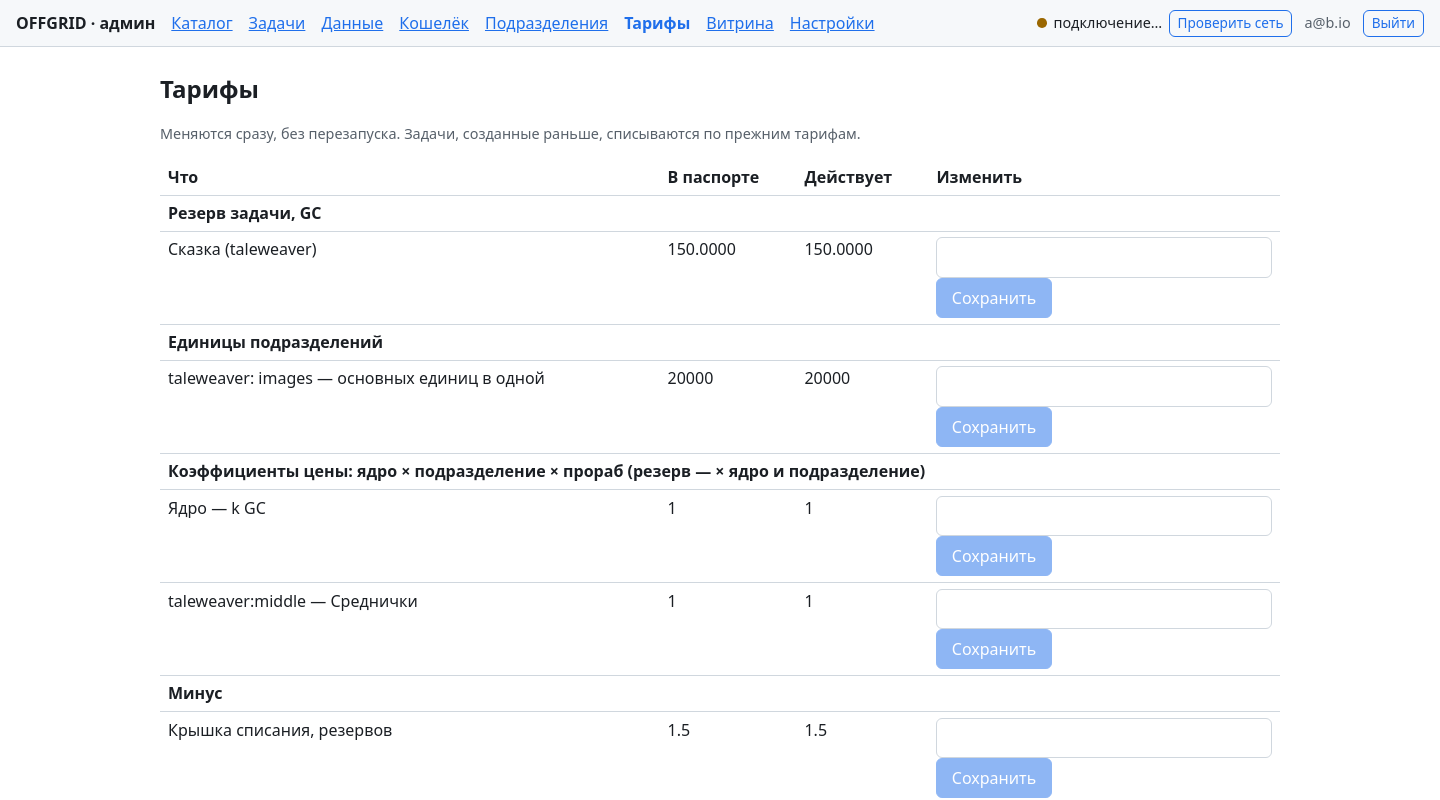
it: tariffs: a multiplier for a prorab is sent
Type "1,2" into the field named "новое: taleweaver:middle — Среднички" at (1104, 609), box [936,588,1272,629]
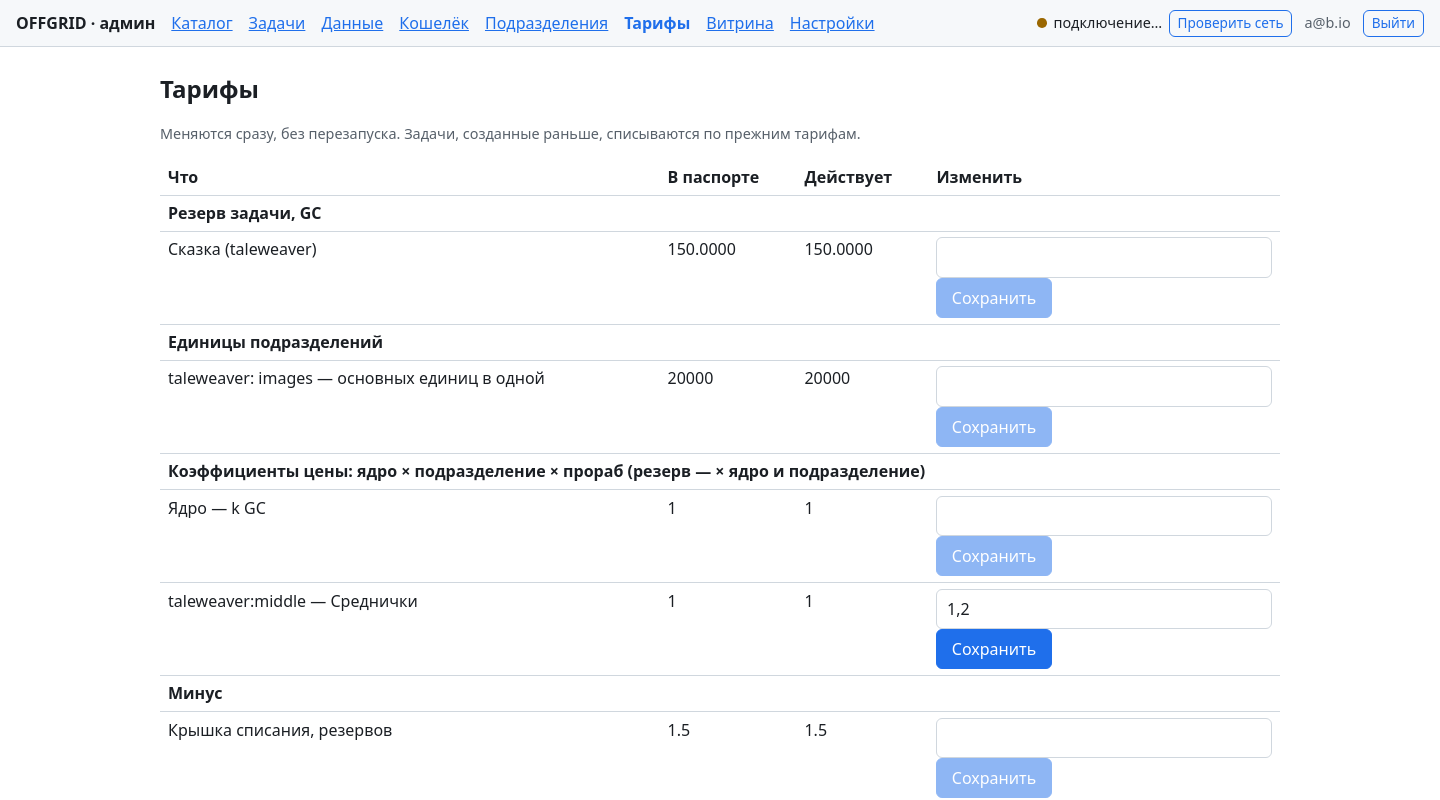
Click the 4th button "Сохранить" at (994, 649), box [936,629,1052,669]
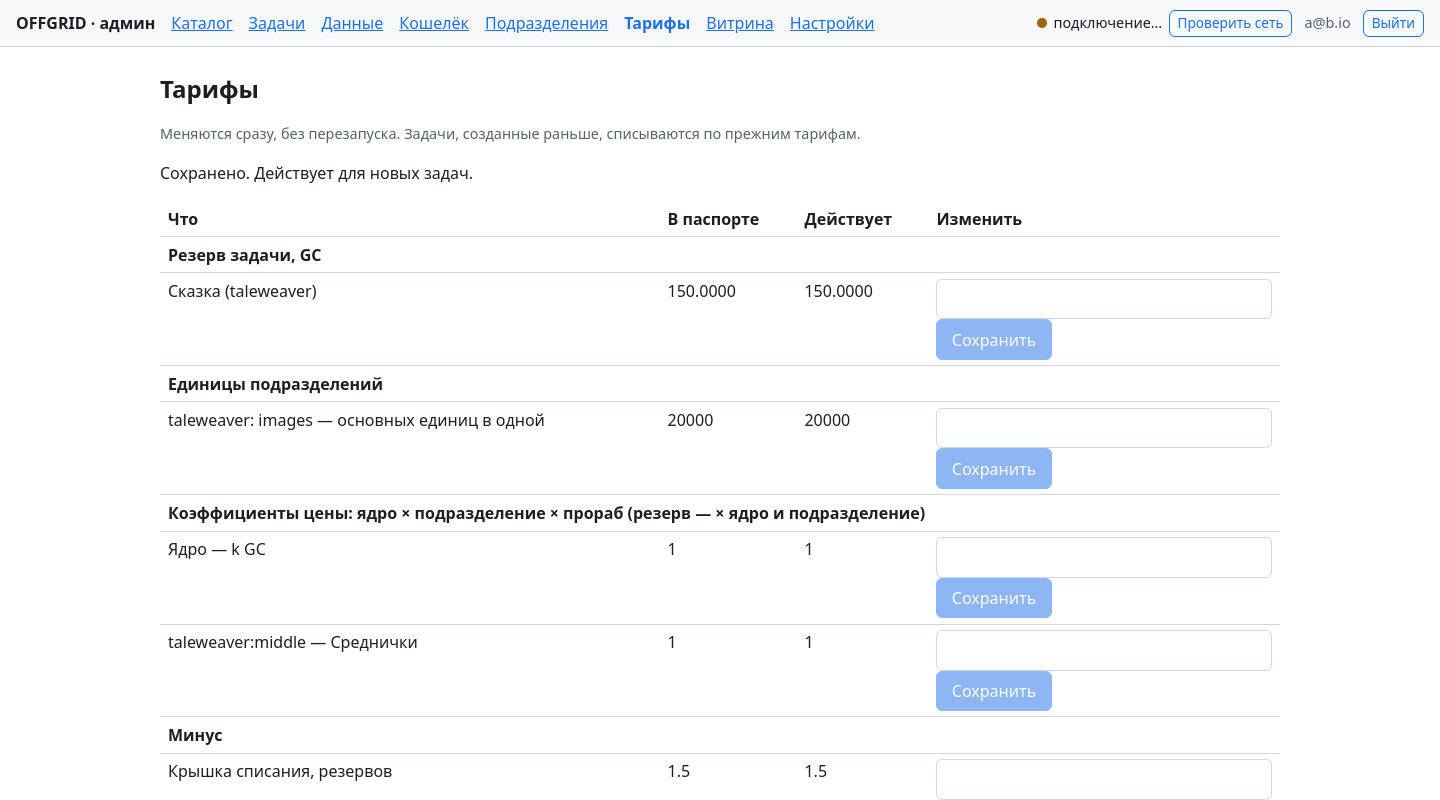
Expected: the text "Сохранено. Действует для новых задач." is shown, [160,162,473,184]
